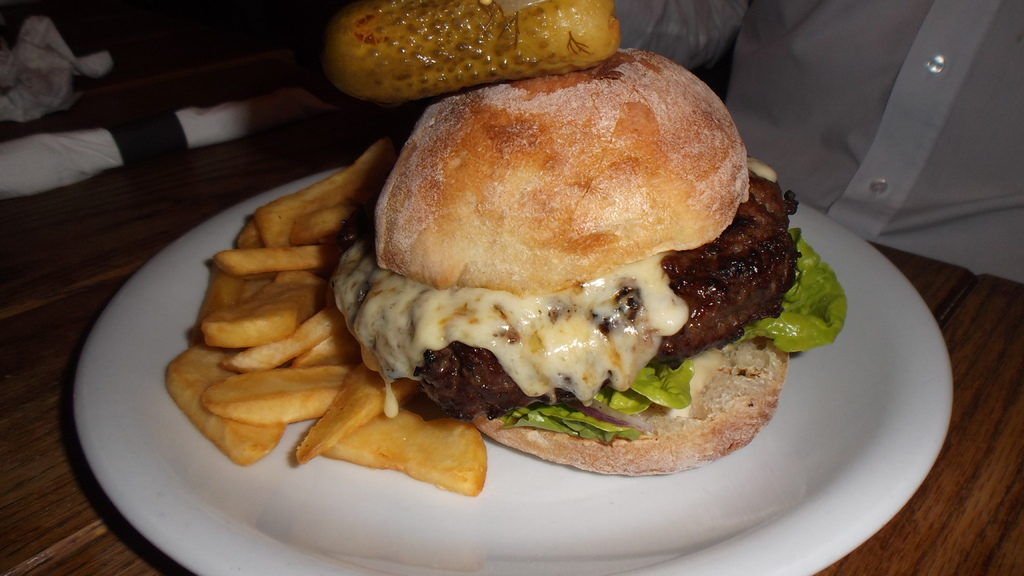Hamburger: (334, 50, 850, 478)
